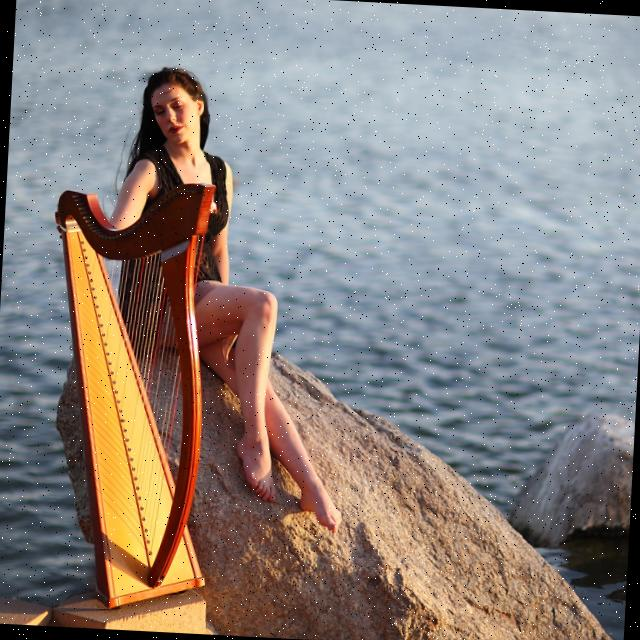harp: (36, 173, 231, 616)
